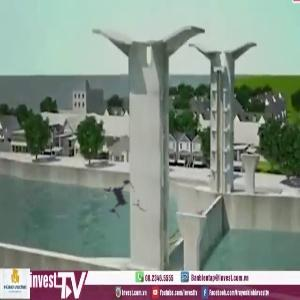drone: (76, 155, 166, 245)
